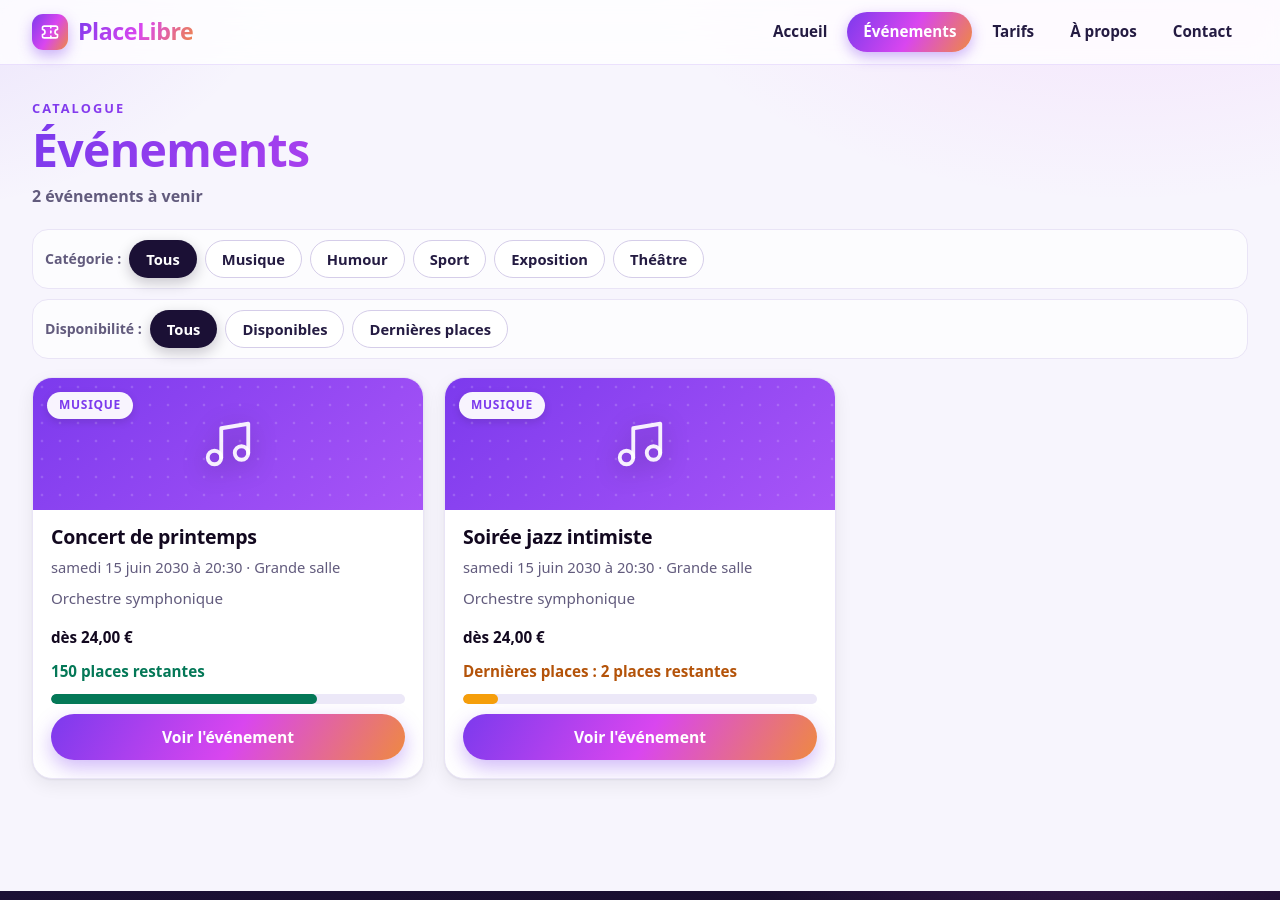
Test: page des événements (/evenements) › filtre par disponibilité
This screenshot has width=1280, height=900.
Expected: the link "Concert de printemps" is shown, [51,523,257,550]
Click the button "Dernières places". click: (430, 329)
box: [352,310,508,348]
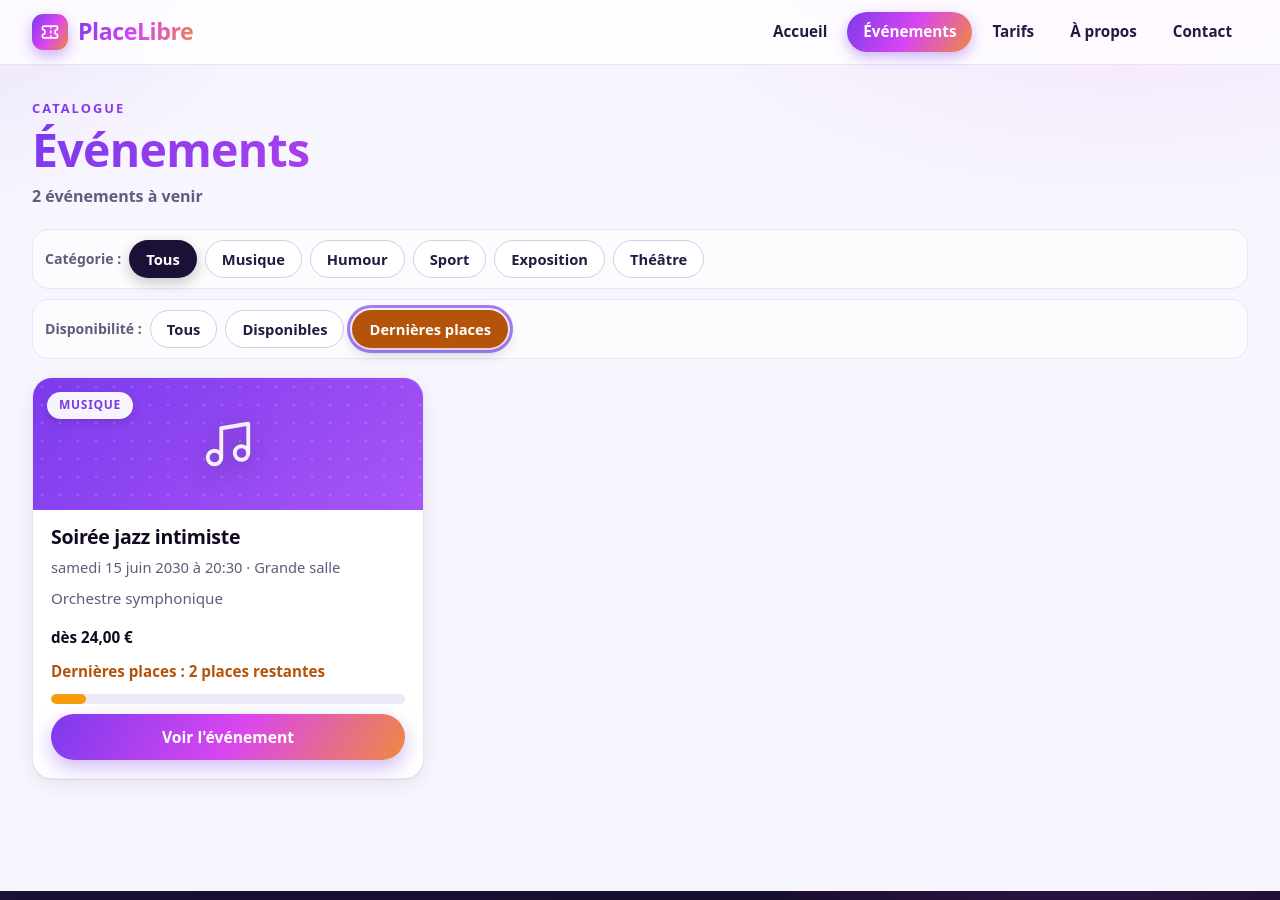
Expected: the link "Soirée jazz intimiste" is shown, [51,523,240,550]
Now the link "Concert de printemps" is gone
